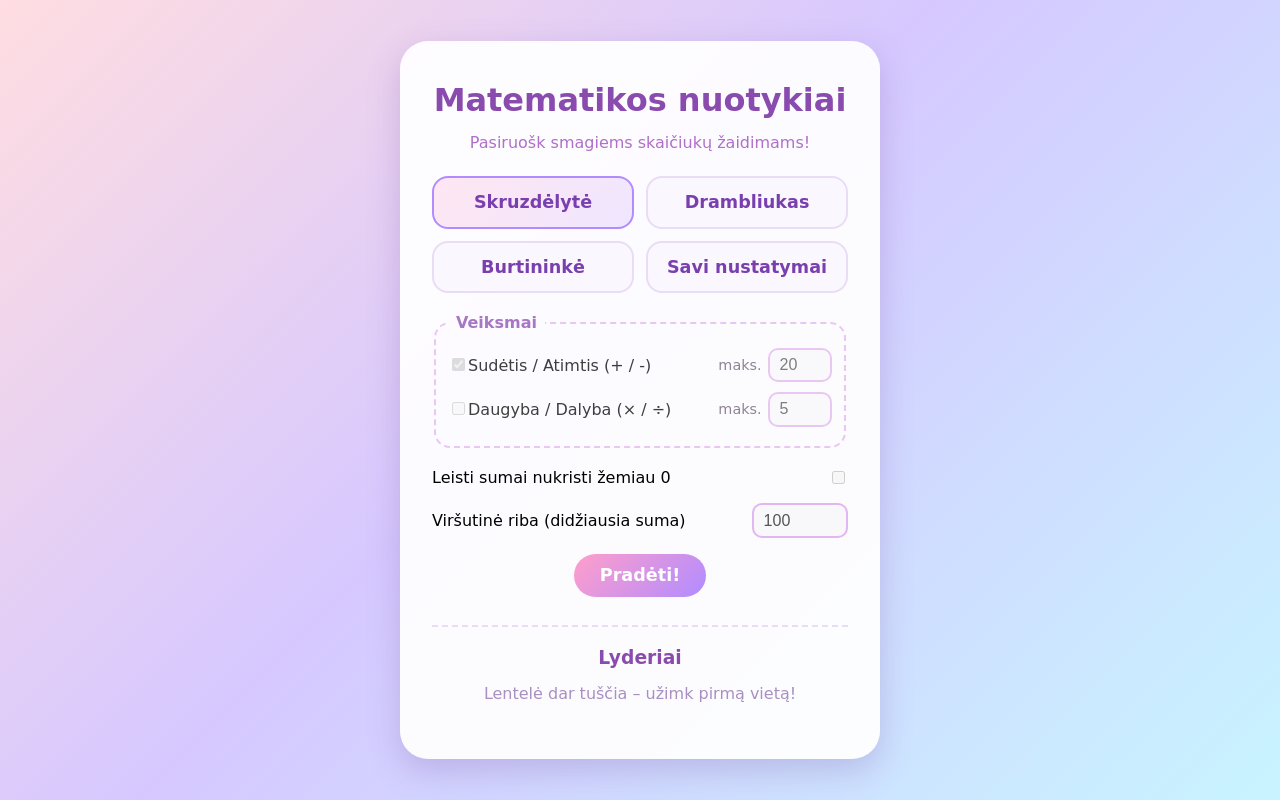
Scenario: App › lasts exactly 60 seconds
This screenshot has width=1280, height=800.
What coordinates should you click on to do the following:
click the button "Pradėti!"
I would click on:
 (640, 575)
Its box is x1=574 y1=554 x2=706 y2=597.
Wait 60000 ms
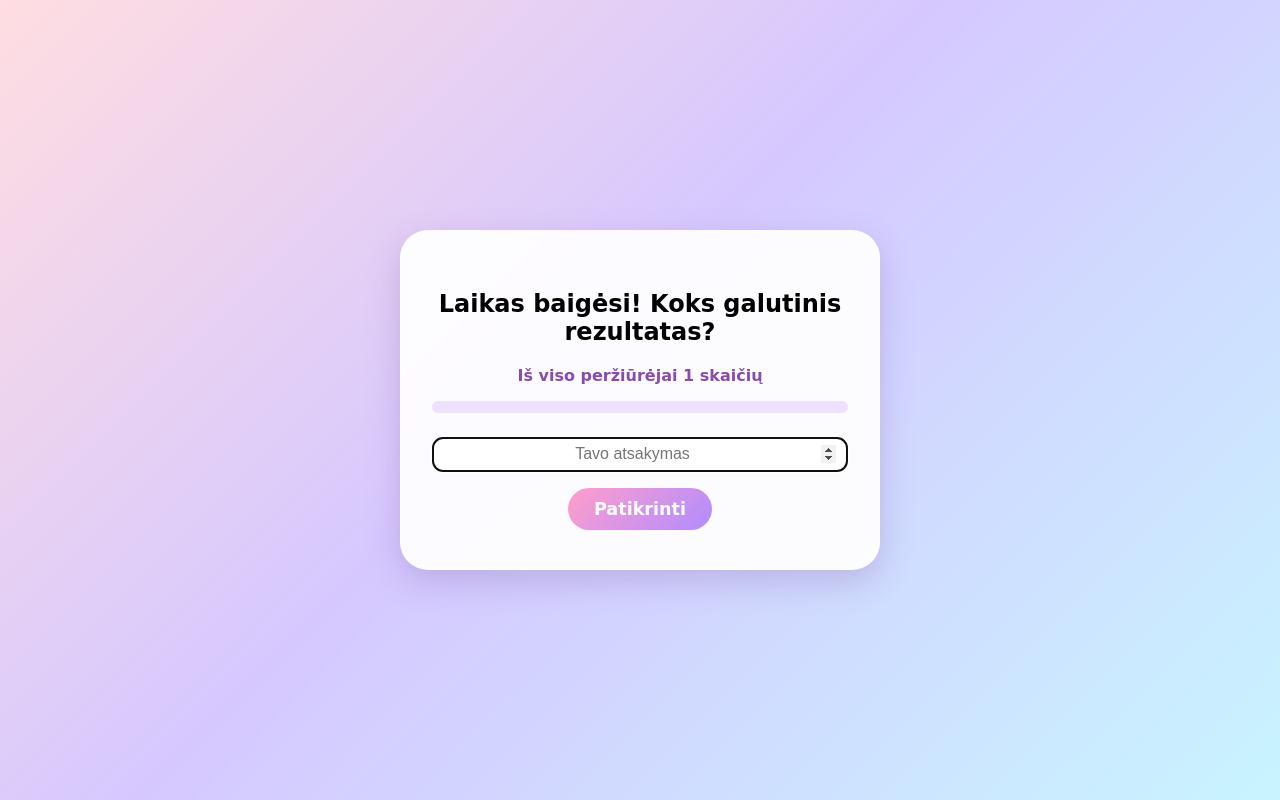
Expected: the heading "Laikas baigėsi! Koks galutinis rezultatas?" is shown, x1=432 y1=290 x2=848 y2=346
